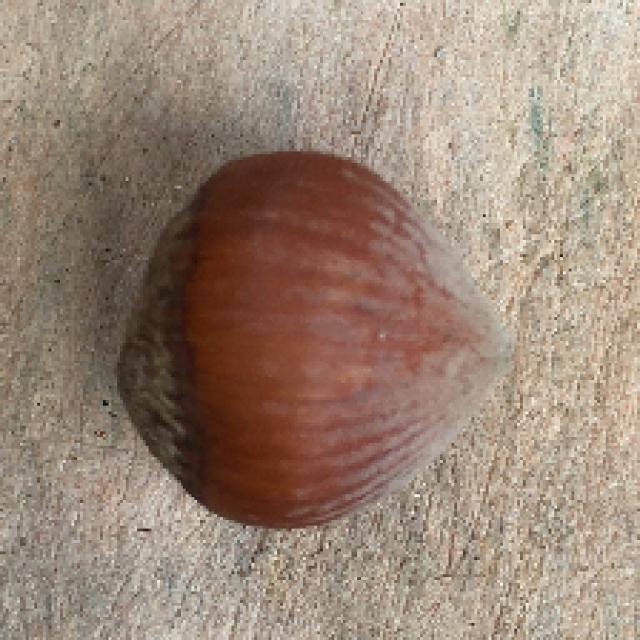qualityHazelnut: (101, 141, 507, 526)
